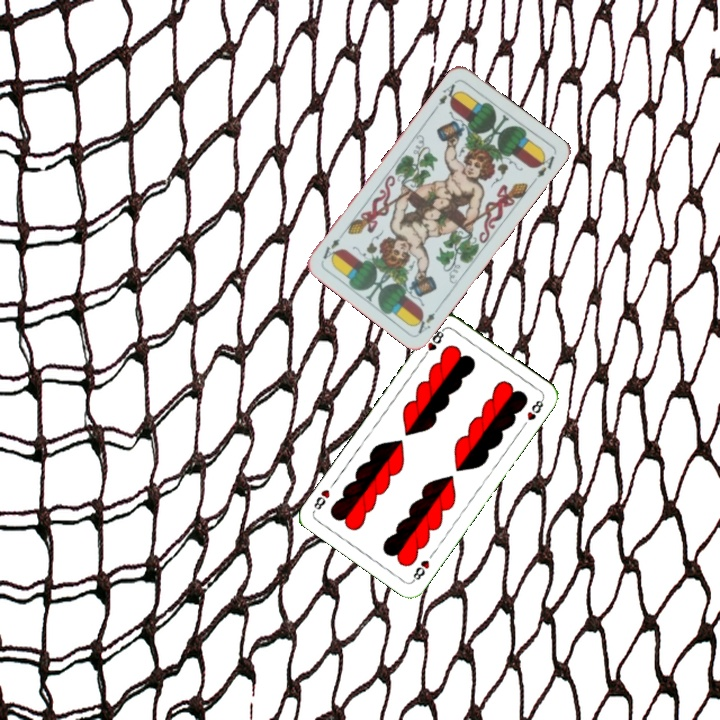EA: (432, 77, 462, 112), (411, 309, 438, 336)
H8: (419, 325, 447, 361), (408, 556, 432, 584)
